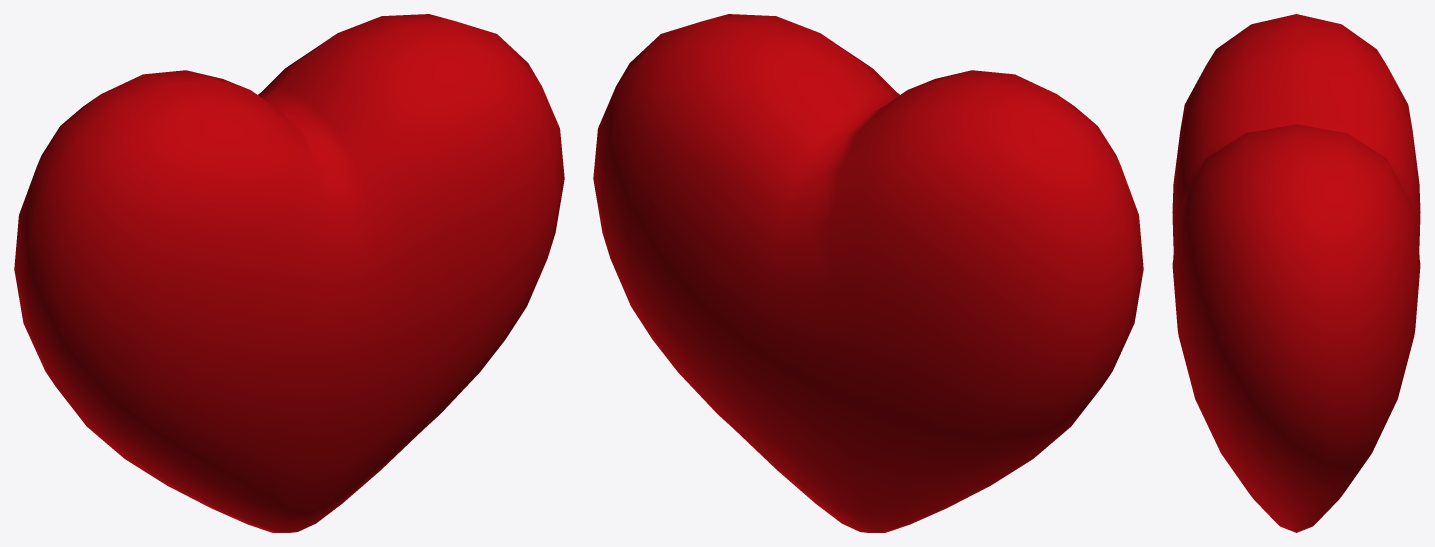
Rendered from heart.fbx.
3 views of the same model, side by side, from view 1: azimuth 30°, elevation 25°; view 2: azimuth 150°, elevation 25°; view 3: azimuth 270°, elevation 25° (orthographic). The views are drawn at different scales.
Visible parts, largest first — view 1: heart; view 2: heart; view 3: heart.
Boxes of the visible parts, x1=… form: heart: x1=14, y1=14, x2=564, y2=532; heart: x1=593, y1=14, x2=1143, y2=532; heart: x1=1172, y1=14, x2=1420, y2=532.
Bounding box in the file's own units: 1.61 × 1.4 × 0.7052.
Materials: 1 (1 with a texture image).
